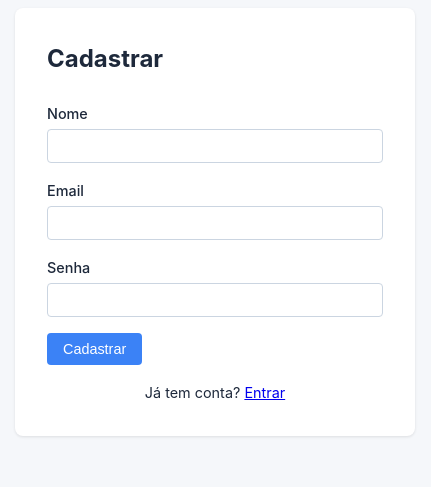
Test: Register page › exibe erro quando o cadastro falha
This screenshot has width=431, height=487.
Type "Ana" into the field labelled "Nome" at (215, 146), box [47,129,383,163]
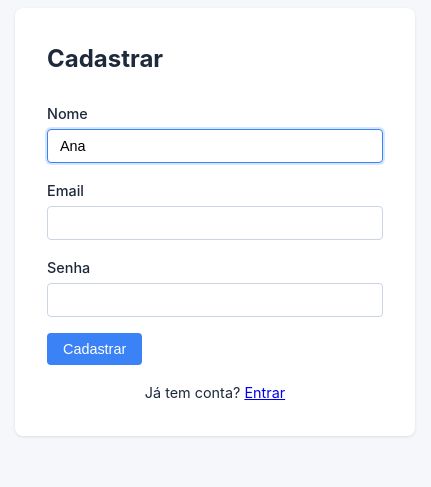
Type "a@b.com" into the field labelled "Email" at (215, 223), box [47,206,383,240]
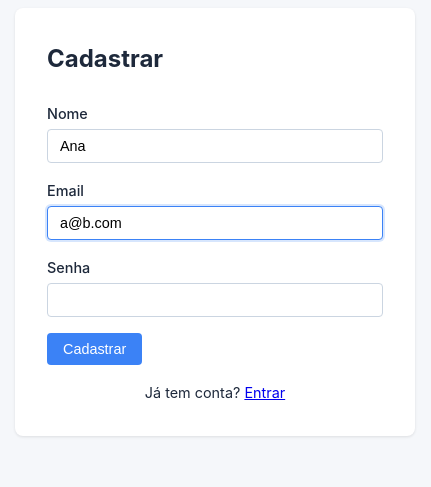
Type "secret123" into the password field labelled "Senha" at (215, 300), box [47,283,383,317]
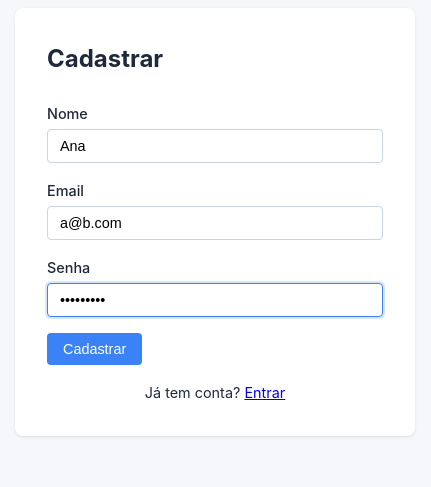
Click the button "Cadastrar" at (95, 349), box [47,333,142,365]
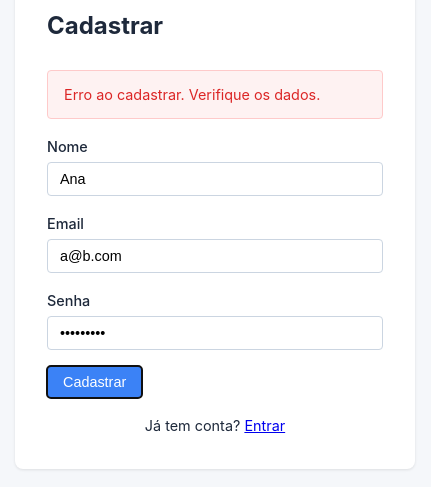
Now the text "Erro ao cadastrar. Verifique os dados." is shown, box [47,70,383,119]
